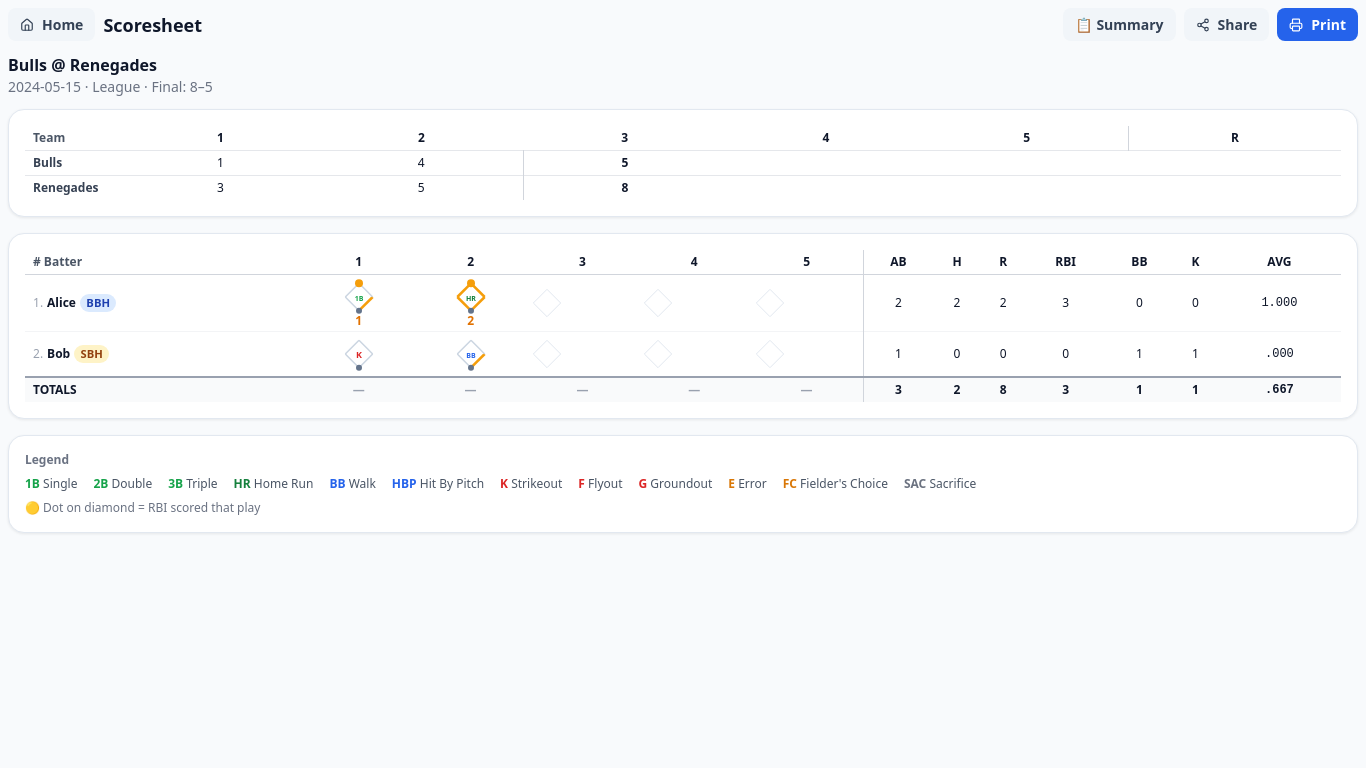
Scenario: ScoresheetPage share › shows Copied! toast after clipboard copy
Click the button "Share" at coordinates (1226, 24), box [1184,8,1269,41]
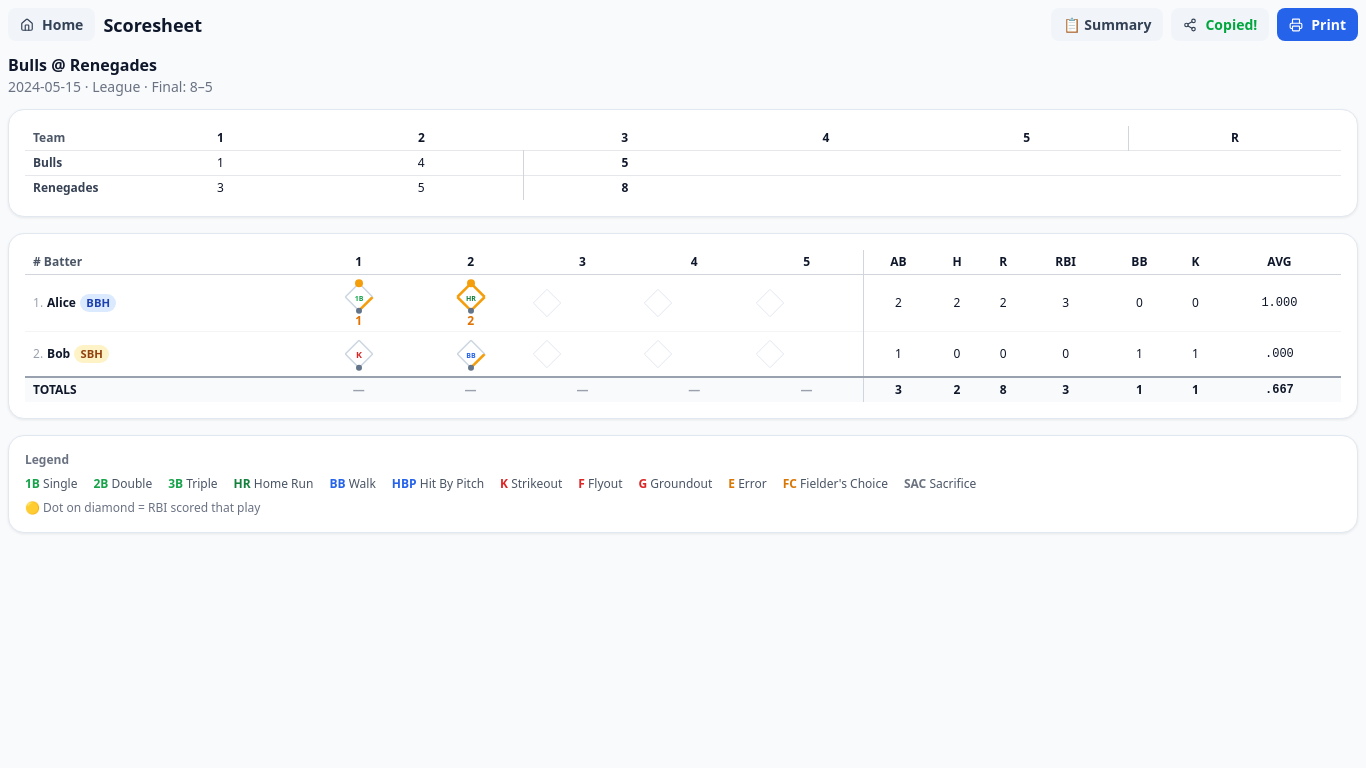
Expected: the text "Copied!" is shown, [1205,14,1257,35]
